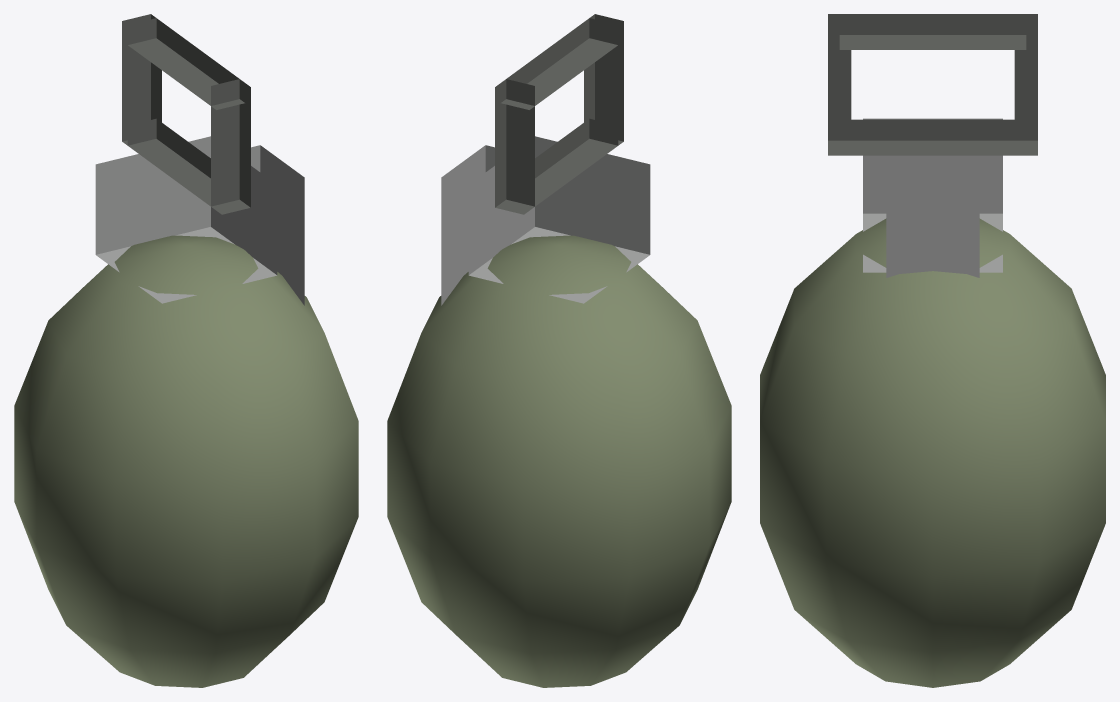
The model's file is frag_grenade.glb.
3 renders of one model, left to right at view 1: azimuth 30°, elevation 25°; view 2: azimuth 150°, elevation 25°; view 3: azimuth 270°, elevation 25°, orthographic. The views are drawn at different scales.
Visible parts, largest first — view 1: frag_grenade; view 2: frag_grenade; view 3: frag_grenade.
Boxes of the visible parts, x1,y1,x2,y2 form: frag_grenade: (14, 14, 358, 687); frag_grenade: (387, 14, 731, 687); frag_grenade: (760, 14, 1105, 687).
Size of the model in its own units: 0.0624 by 0.124 by 0.0593.
